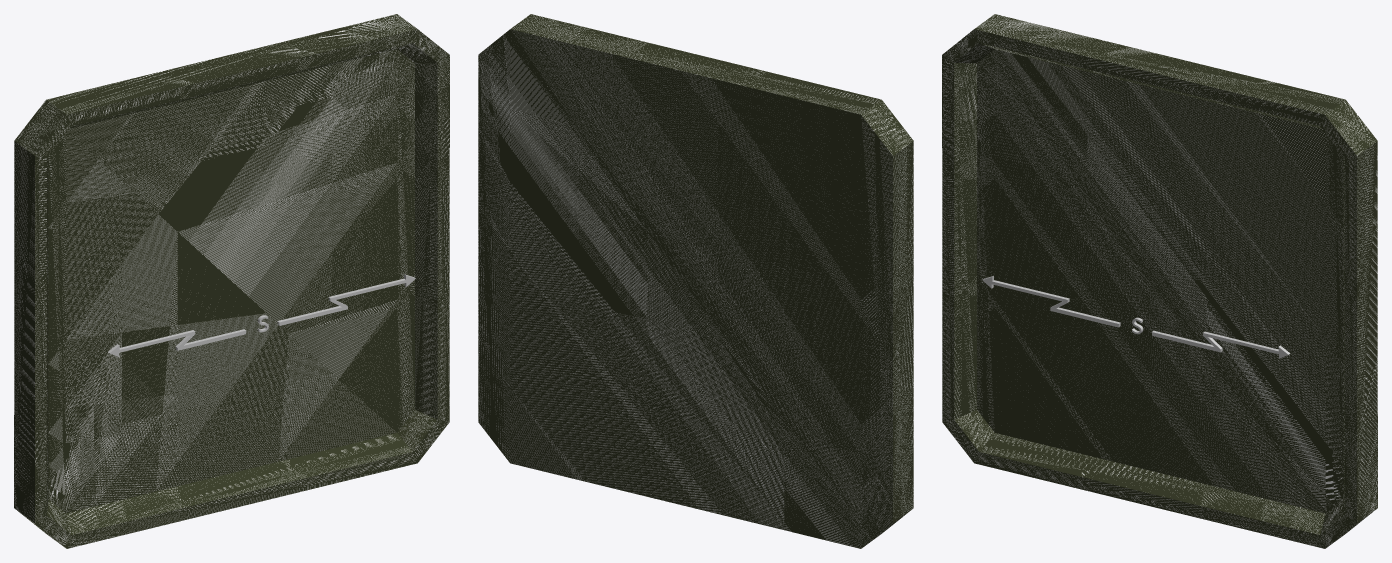
3 views of the same model, side by side, from view 1: azimuth 30°, elevation 25°; view 2: azimuth 150°, elevation 25°; view 3: azimuth 330°, elevation 25° (orthographic).
Visible parts, largest first — view 1: Button.001_ID13, Button_ID3, SM_CM_-_S_mesh.026; view 2: Button_ID3; view 3: Button.001_ID13, Button_ID3, SM_CM_-_S_mesh.026.
Part boxes in pixels (box(x1,y1,x2,y2)): Button.001_ID13: box(47, 43, 437, 534); Button_ID3: box(14, 14, 449, 548); SM_CM_-_S_mesh.026: box(108, 274, 415, 356); Button_ID3: box(478, 14, 913, 548); Button.001_ID13: box(954, 43, 1344, 534); Button_ID3: box(942, 14, 1377, 548); SM_CM_-_S_mesh.026: box(982, 275, 1290, 358).
Size of the model in its own units: 1 by 1 by 0.159.
